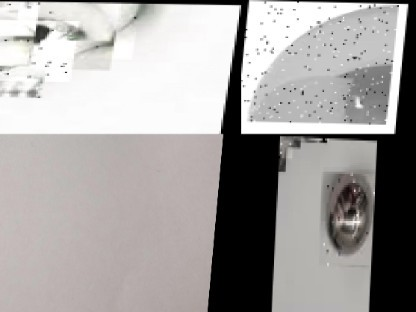ironball: (241, 0, 398, 122), (13, 0, 140, 57), (320, 164, 376, 264), (0, 18, 80, 80), (279, 135, 293, 156), (3, 0, 24, 8)
